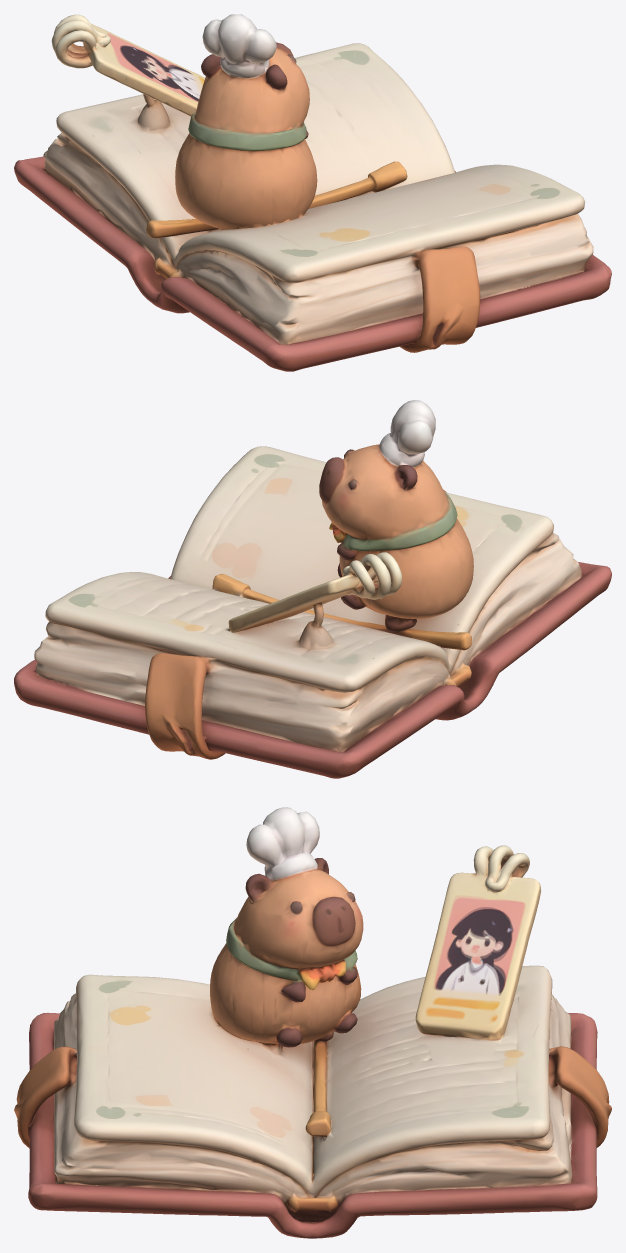
The model's file is discovery-h3.glb.
3 views of the same model, one above another, from view 1: azimuth 30°, elevation 25°; view 2: azimuth 150°, elevation 25°; view 3: azimuth 270°, elevation 25° (orthographic). The views are drawn at different scales.
Visible parts, largest first — view 1: tripo_node_e3cf1169-b66a-4f0e-ac13-15b0b70b625d; view 2: tripo_node_e3cf1169-b66a-4f0e-ac13-15b0b70b625d; view 3: tripo_node_e3cf1169-b66a-4f0e-ac13-15b0b70b625d.
Part boxes in pixels (x1,y1,x2,y2): tripo_node_e3cf1169-b66a-4f0e-ac13-15b0b70b625d: [14, 14, 611, 371]; tripo_node_e3cf1169-b66a-4f0e-ac13-15b0b70b625d: [14, 400, 611, 778]; tripo_node_e3cf1169-b66a-4f0e-ac13-15b0b70b625d: [14, 807, 611, 1238].
Size of the model in its own units: 0.7137 by 0.566 by 1.
1 material, 1 textured.
